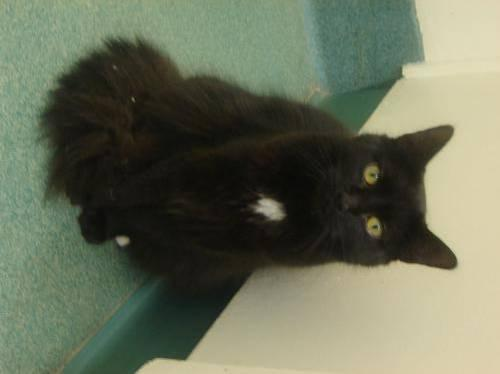cat: (43, 39, 456, 286)
